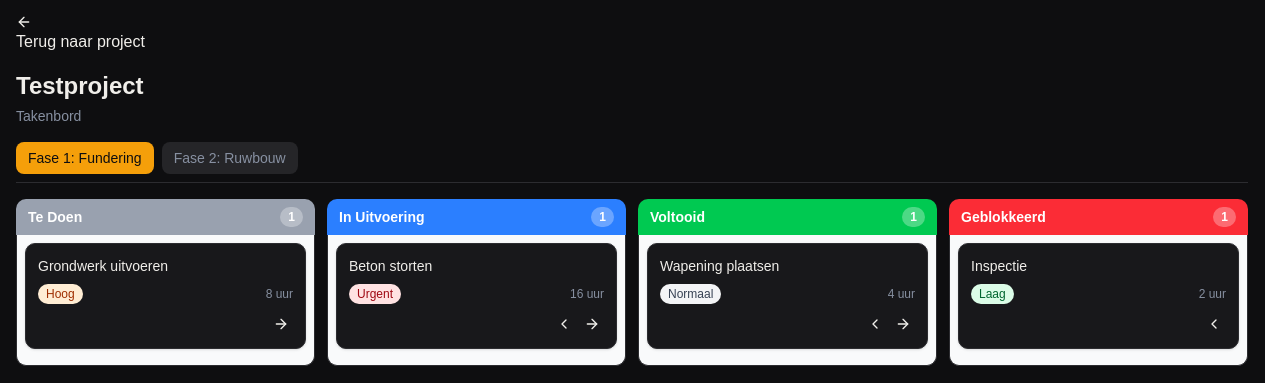
Test case: KanbanBoardPage › switches tasks when a different phase is selected
Expected: the text "Grondwerk uitvoeren" is shown, [38,258,168,274]
// Click phase 2 tab
Click the button "Fase 2: Ruwbouw" at (230, 158), box [162,142,298,174]
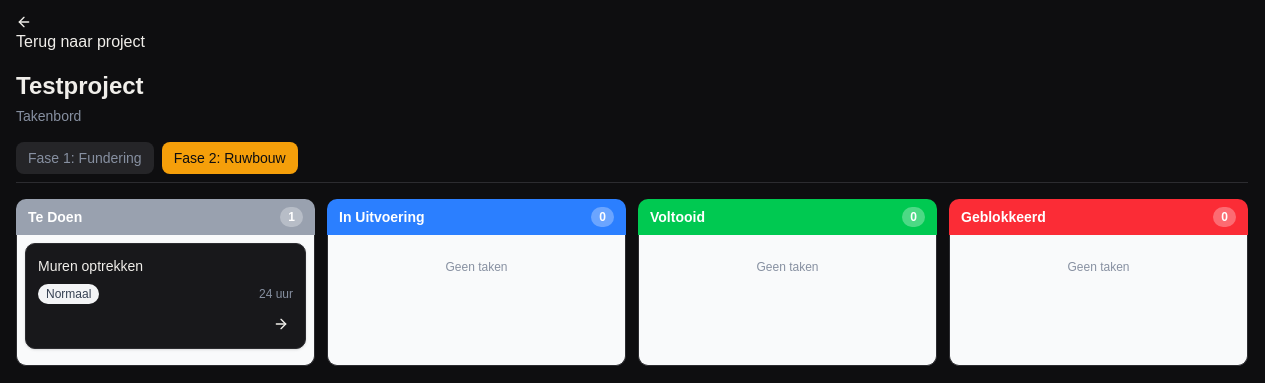
Expected: the text "Muren optrekken" is shown, [38,258,143,274]
Expected: the text "Grondwerk uitvoeren" is gone
